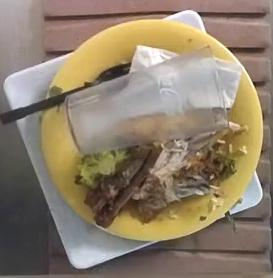broccoli: (80, 150, 116, 186)
